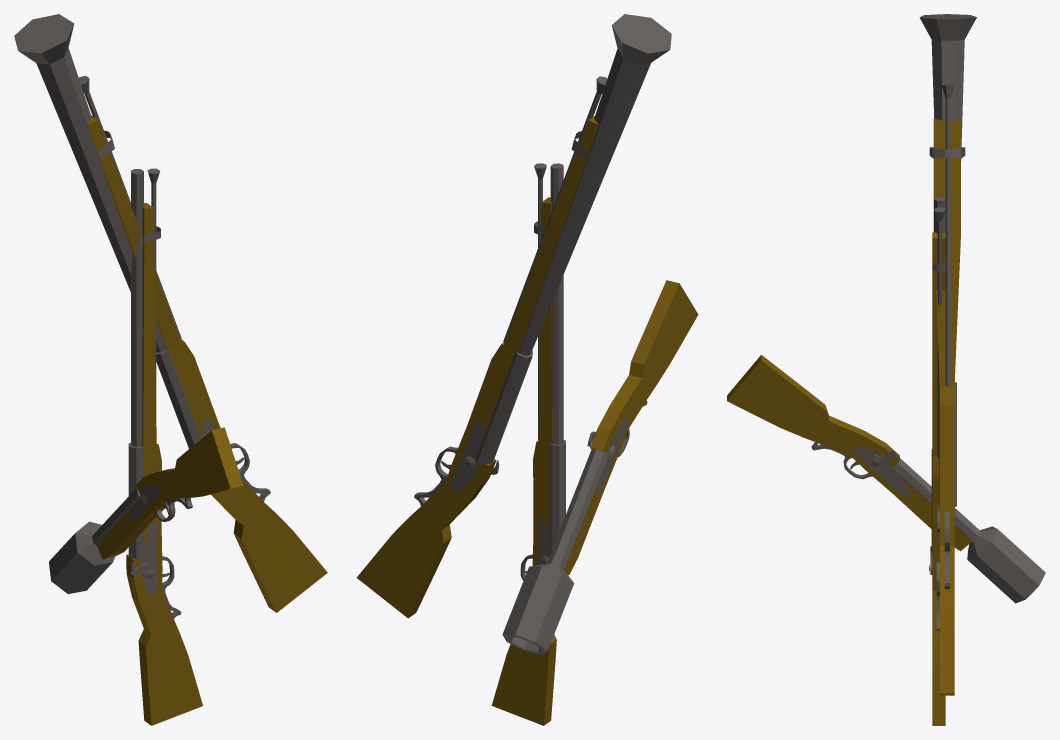
File: Armas.fbx
The picture shows the model from 3 angles, left to right: view 1: azimuth 30°, elevation 25°; view 2: azimuth 150°, elevation 25°; view 3: azimuth 270°, elevation 25°; orthographic projection. The views are drawn at different scales.
Visible parts, largest first — view 1: shotggun.001, Mosquete, Canha_de_mao; view 2: shotggun.001, Canha_de_mao, Mosquete; view 3: shotggun.001, Canha_de_mao, Mosquete.
Boxes of the visible parts, x1,y1,x2,y2 form: shotggun.001: (14, 14, 327, 612); Mosquete: (126, 168, 202, 725); Canha_de_mao: (49, 427, 243, 593); shotggun.001: (356, 14, 671, 618); Canha_de_mao: (502, 280, 698, 654); Mosquete: (491, 163, 565, 725); shotggun.001: (919, 14, 976, 695); Canha_de_mao: (727, 354, 1045, 603); Mosquete: (929, 196, 945, 725).
Size of the model in its own units: 67.47 by 151 by 66.61.
